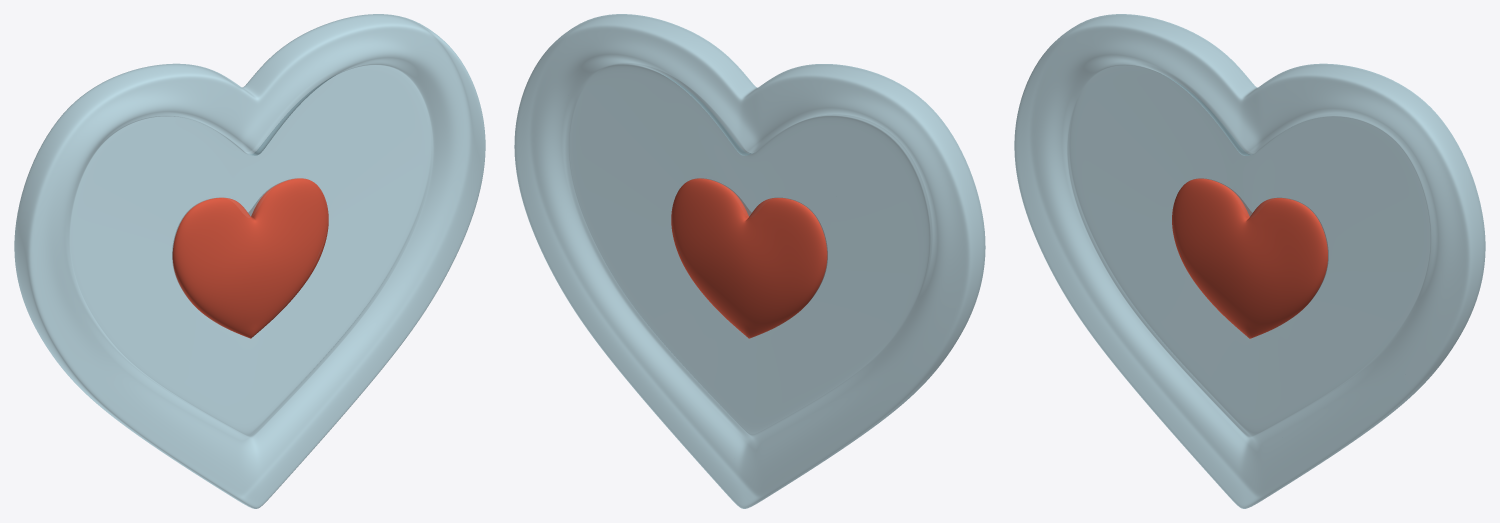
Rendered from Heartpiece.glb.
3 views of the same model, side by side, from view 1: azimuth 30°, elevation 25°; view 2: azimuth 150°, elevation 25°; view 3: azimuth 330°, elevation 25° (orthographic).
Visible parts, largest first — view 1: Cube.001, Cube; view 2: Cube.001, Cube; view 3: Cube.001, Cube.
Boxes of the visible parts, x1,y1,x2,y2 form: Cube.001: (14, 14, 485, 508); Cube: (172, 178, 328, 338); Cube.001: (514, 14, 985, 508); Cube: (671, 178, 827, 338); Cube.001: (1014, 14, 1485, 508); Cube: (1172, 178, 1328, 338).
Bounding box in the file's own units: 39.46 × 37.55 × 2.98.
